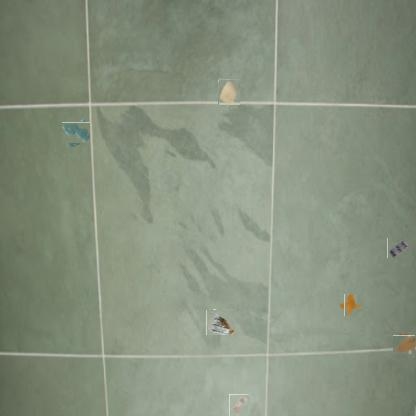dirty: (206, 309, 235, 335), (218, 79, 240, 105), (394, 333, 416, 356), (227, 394, 249, 416), (387, 238, 408, 258)
liquid: (64, 121, 89, 145), (342, 297, 359, 314)
